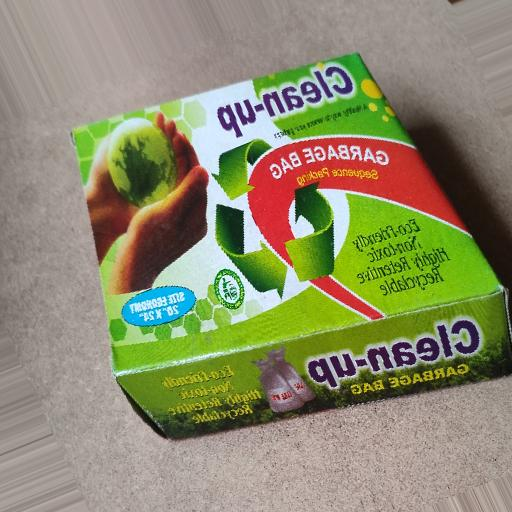CleanUp Garbage bag: (33, 65, 512, 434)
